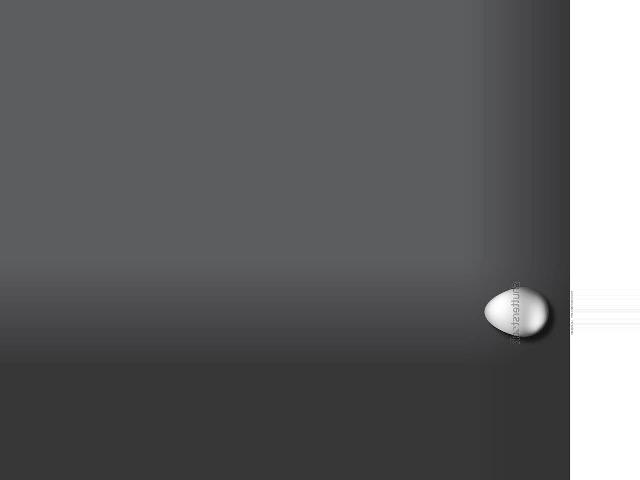egg: (483, 287, 548, 337)
